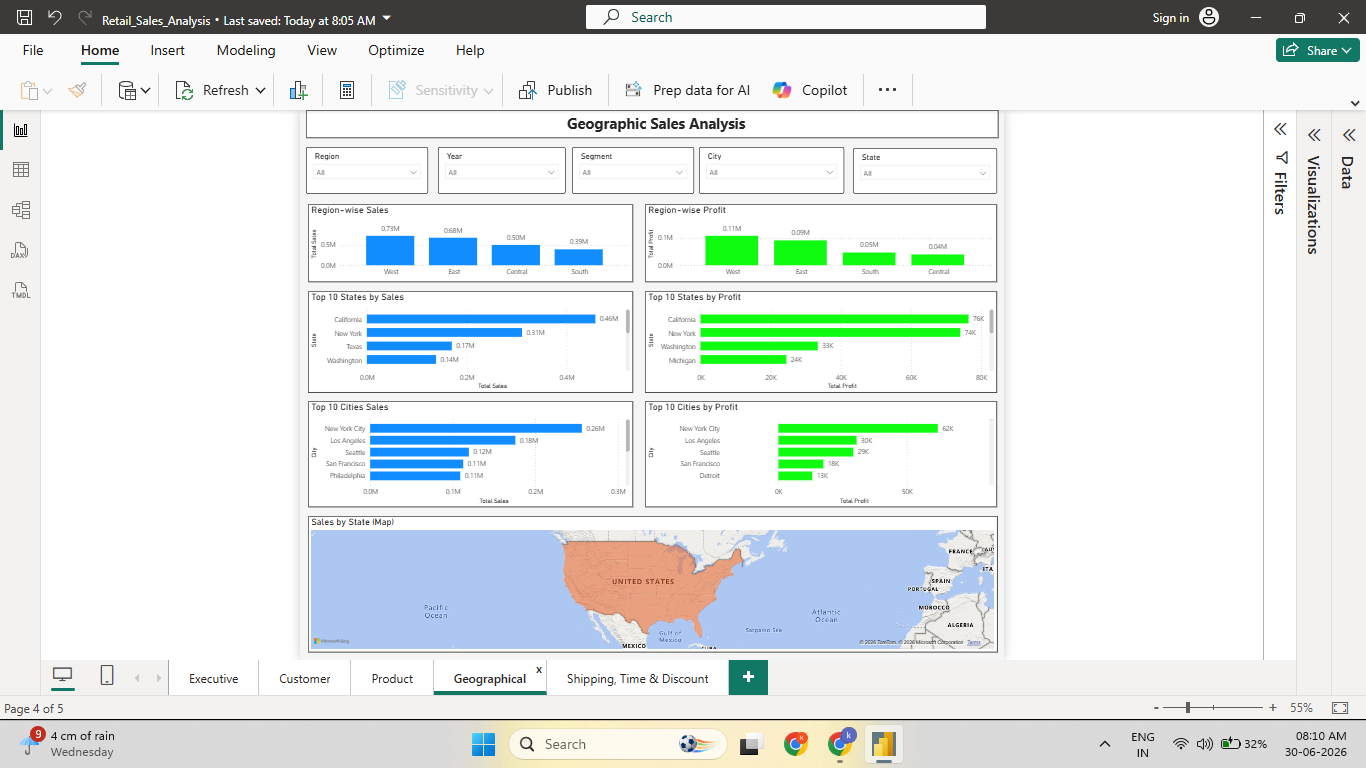

This screenshot's page, from the dashboard's own definition file:
{"tool":"powerbi","page":{"name":"Geographical ","canvas":[1280,1000],"ordinal":3},"visuals":[{"type":"textbox","box":[10.2,0,1258.5,51.2],"z":0},{"type":"slicer","fields":{"Values":["orders.Region"]},"box":[10.2,67.1,221.5,85.4],"z":1000},{"type":"slicer","fields":{"Values":["orders.Order Date.Variation.Date Hierarchy.Year"]},"box":[250,67.1,231.7,85.4],"z":2000},{"type":"slicer","fields":{"Values":["orders.Segment"]},"box":[493.9,67.1,221.5,85.4],"z":3000},{"type":"slicer","fields":{"Values":["orders.City"]},"box":[725.6,67.1,264.2,85.4],"z":4000},{"type":"slicer","fields":{"Values":["orders.State"]},"box":[1006.1,69.1,262.2,83.3],"z":5000},{"type":"clusteredColumnChart","title":"Region-wise Sales","fields":{"Category":["orders.Region"],"Y":["Measures (2).Total Sales"]},"box":[14.2,170.7,591.5,142.3],"z":6000},{"type":"clusteredColumnChart","title":"Region-wise Profit","fields":{"Category":["orders.Region"],"Y":["Measures (2).Total Profit"]},"box":[628,170.7,640.2,142.3],"z":7000},{"type":"barChart","title":"Top 10 States by Sales","fields":{"Category":["orders.State"],"Y":["Measures (2).Total Sales"]},"box":[14.2,329.3,591.5,185],"z":8000},{"type":"barChart","title":"Top 10 States by Profit","fields":{"Category":["orders.State"],"Y":["Measures (2).Total Profit"]},"box":[628,329.3,640.2,185],"z":9000},{"type":"barChart","title":"Top 10 Cities Sales","fields":{"Category":["orders.City"],"Y":["Measures (2).Total Sales"]},"box":[14.2,528.5,591.5,193.1],"z":10000},{"type":"barChart","title":"Top 10 Cities by Profit","fields":{"Category":["orders.City"],"Y":["Measures (2).Total Profit"]},"box":[628,528.5,640.2,193.1],"z":11000},{"type":"filledMap","title":"Sales by State (Map)","fields":{"Category":["orders.State"]},"box":[14.2,737.8,1254.1,248],"z":12000}]}

Visuals, with their boxes on the page's 1280x1000 design canvas (x1, y1, x2, y2). These are canvas units, not pixel positions in the 1366x768 screenshot, which may show the page scaled, cropped or inside an application window:
textbox: 10 0 1269 51
slicer - orders.Region: 10 67 232 152
slicer - orders.Order Date.Variation.Date Hierarchy.Year: 250 67 482 152
slicer - orders.Segment: 494 67 715 152
slicer - orders.City: 726 67 990 152
slicer - orders.State: 1006 69 1268 152
"Region-wise Sales" clusteredColumnChart: 14 171 606 313
"Region-wise Profit" clusteredColumnChart: 628 171 1268 313
"Top 10 States by Sales" barChart: 14 329 606 514
"Top 10 States by Profit" barChart: 628 329 1268 514
"Top 10 Cities Sales" barChart: 14 528 606 722
"Top 10 Cities by Profit" barChart: 628 528 1268 722
"Sales by State (Map)" filledMap: 14 738 1268 986
